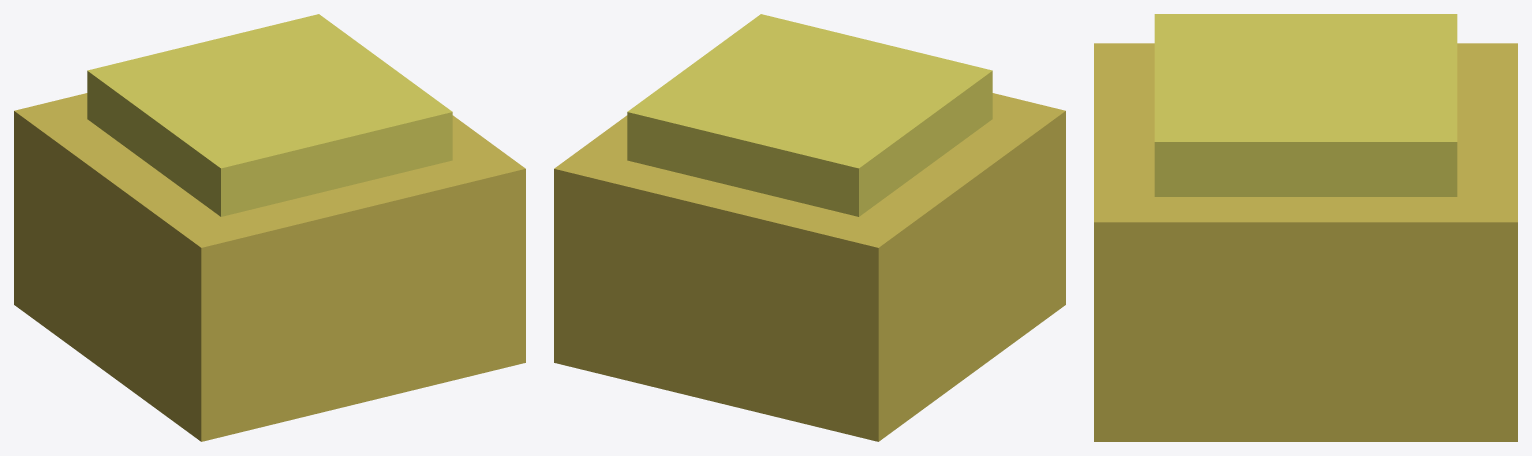
The model's file is moneda_suelta_01.glb.
The picture shows the model from 3 angles, left to right: view 1: azimuth 30°, elevation 25°; view 2: azimuth 150°, elevation 25°; view 3: azimuth 270°, elevation 25°; orthographic projection. The views are drawn at different scales.
Parts seen in each view (by area): view 1: moneda_suelta; view 2: moneda_suelta; view 3: moneda_suelta.
Boxes of the visible parts, x1=… form: moneda_suelta: x1=14, y1=14, x2=525, y2=441; moneda_suelta: x1=554, y1=14, x2=1065, y2=441; moneda_suelta: x1=1094, y1=14, x2=1517, y2=441.
Bounding box in the file's own units: 0.5833 × 0.4167 × 0.5833.
